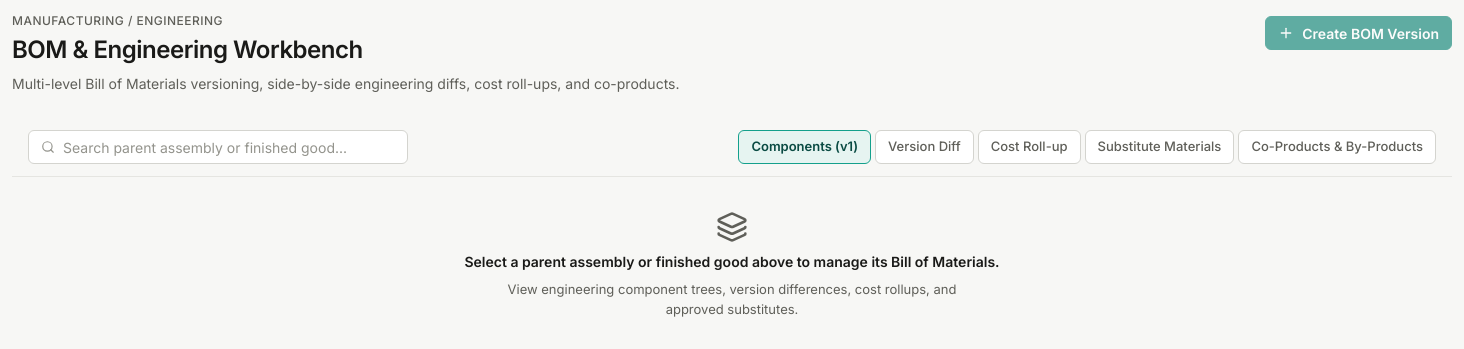
Scenario: BomManagerPage › selects parent item using EntityPicker and displays components
The width and height of the screenshot is (1464, 349).
Click the dropdown named "Parent Assembly / Finished Good": (229, 147) [63, 137, 395, 158]
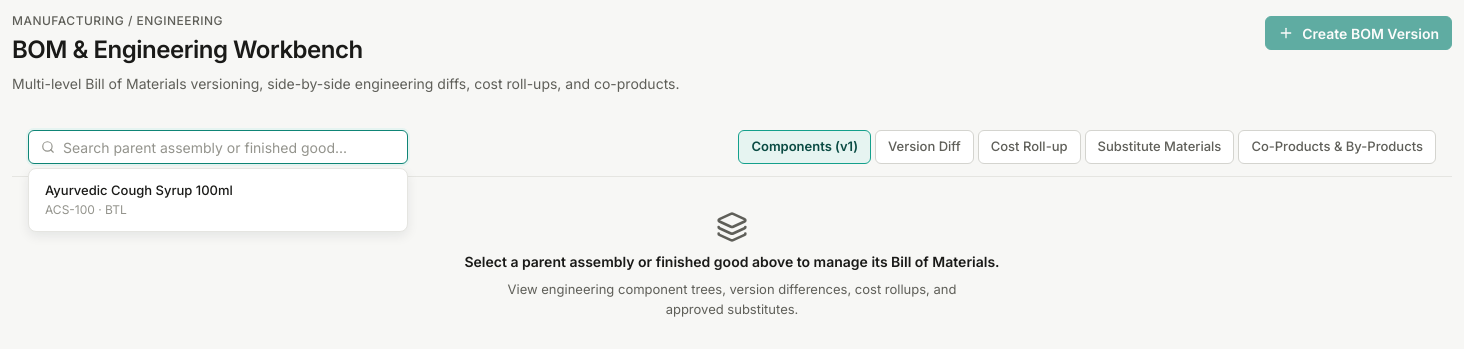
Click the option "Ayurvedic Cough Syrup 100ml ACS-100 · BTL": (139, 199) [45, 182, 233, 217]
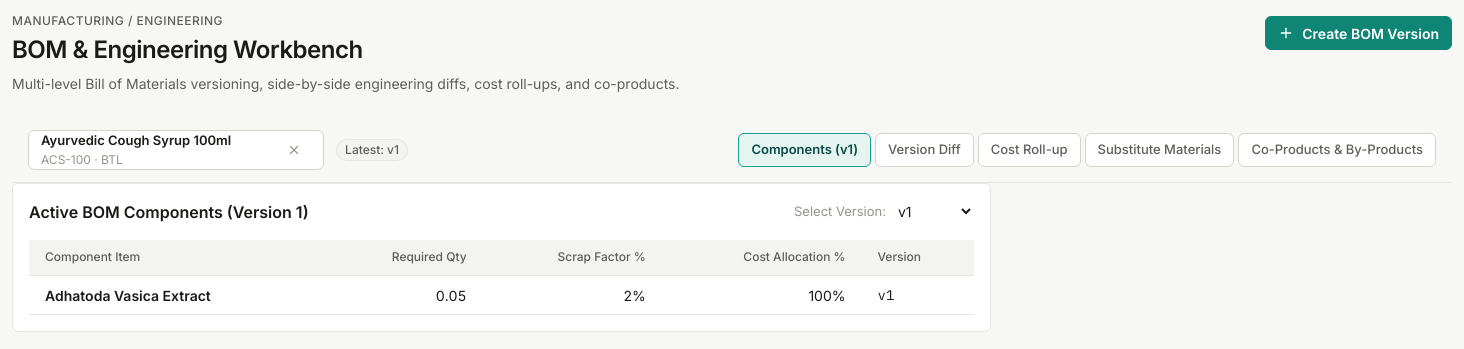
Check: the text "Latest: v1" is shown, box [336, 139, 408, 161]
Check: the text "Adhatoda Vasica Extract" is shown, box [45, 287, 211, 304]
